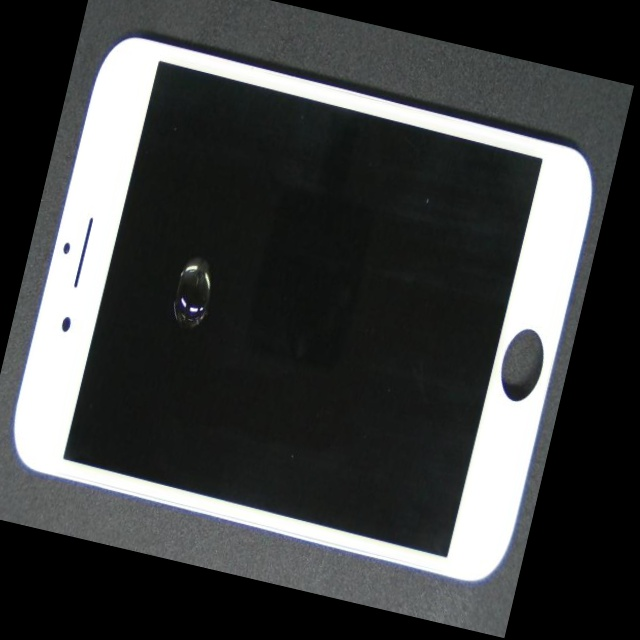oil: (108, 130, 325, 418)
